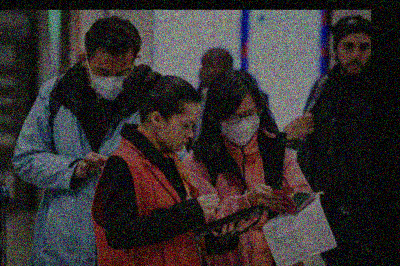with_mask: (220, 104, 262, 148), (89, 63, 132, 105)
without_mask: (163, 115, 200, 153), (335, 39, 372, 75)
